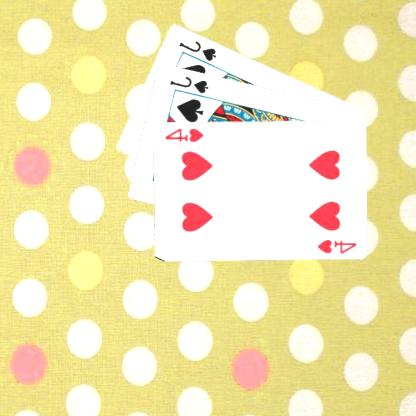4H: (316, 236, 359, 255), (164, 125, 206, 144)
JS: (178, 38, 220, 62), (168, 73, 212, 95)
